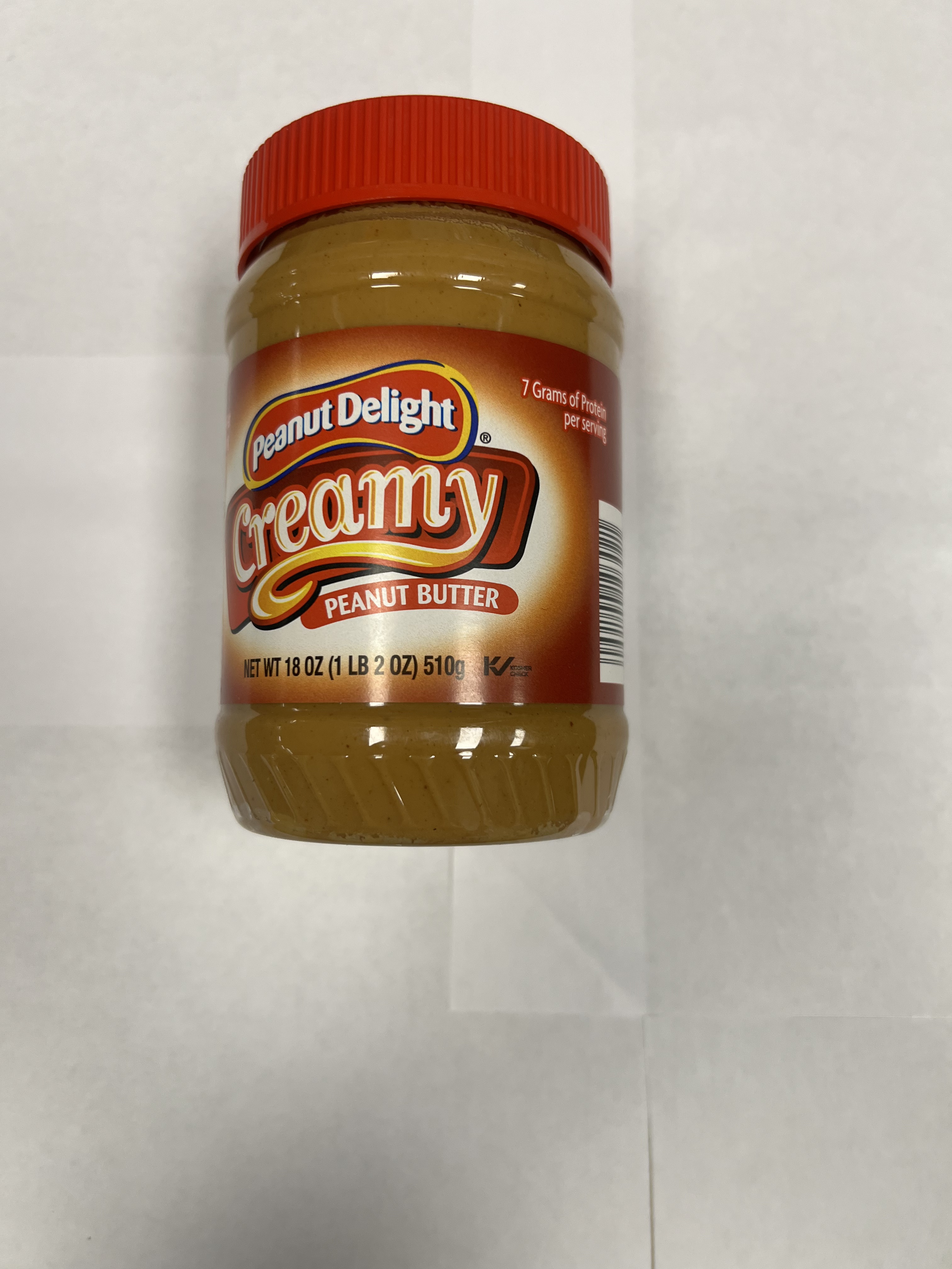packaged: (217, 90, 637, 855)
